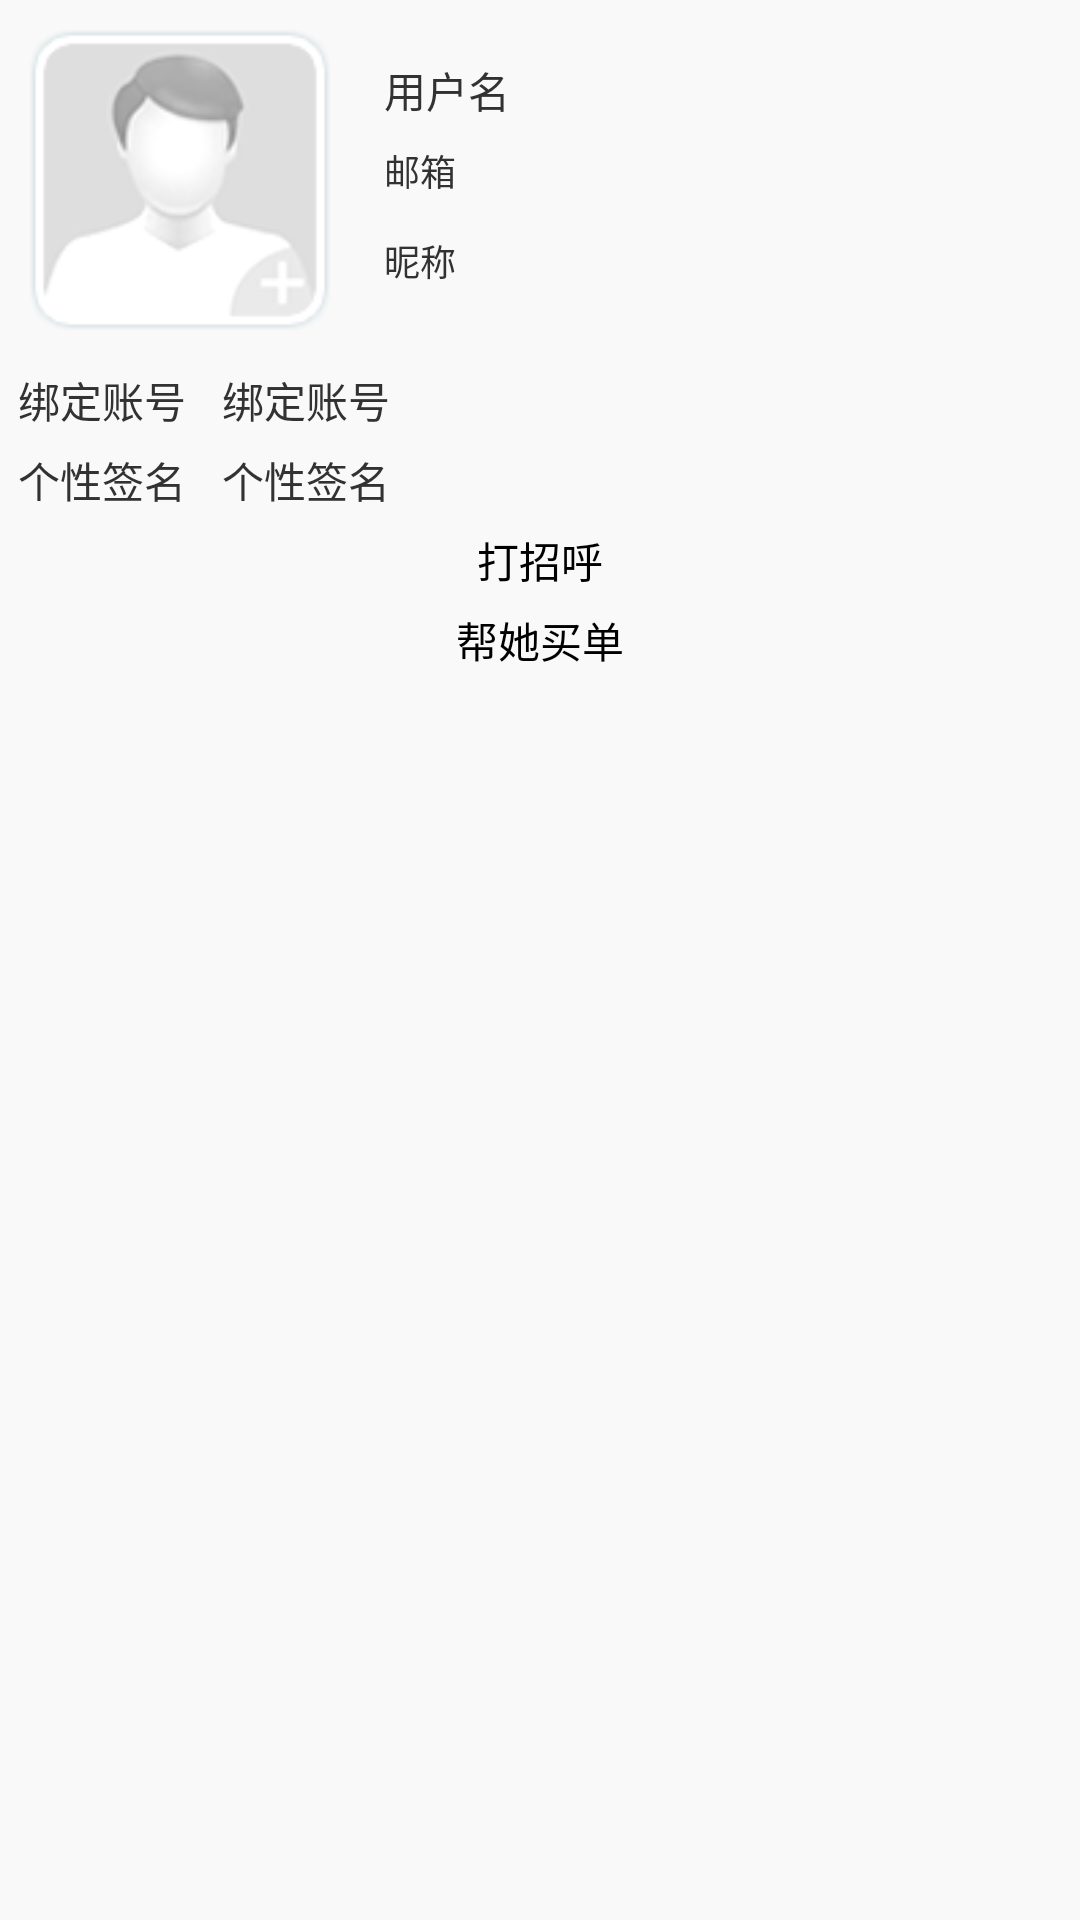

Where icons sit on this 1080 x 1920 app screen, as (x1, y1, x2, y2):
user: (33, 33, 327, 327)
